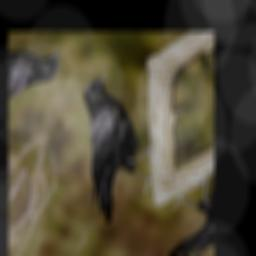Crow: (34, 66, 189, 234)
